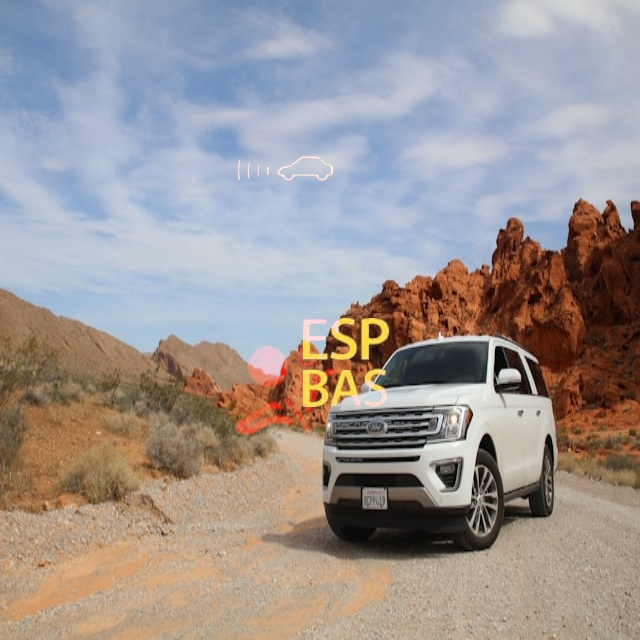symbol: (213, 313, 369, 469), (274, 292, 418, 436), (220, 106, 349, 235)
